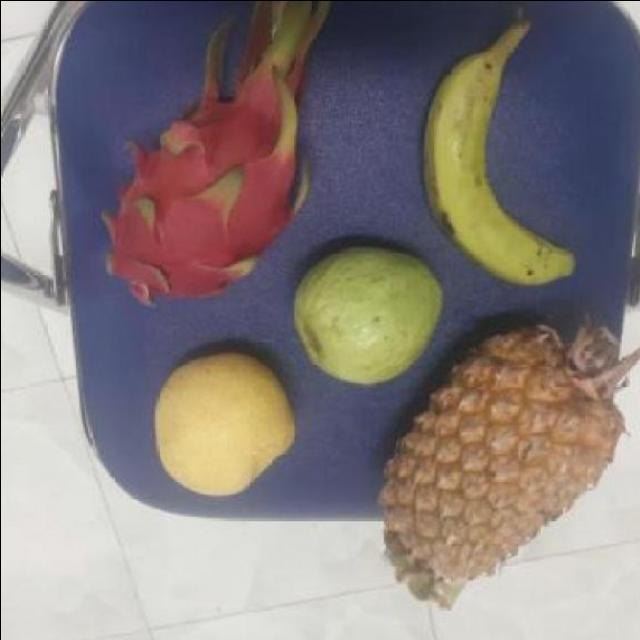banana: (412, 40, 570, 276)
dragon fruit: (91, 68, 312, 298)
guava: (287, 246, 443, 386)
pear: (146, 352, 296, 494)
pineapple: (372, 316, 626, 594)
